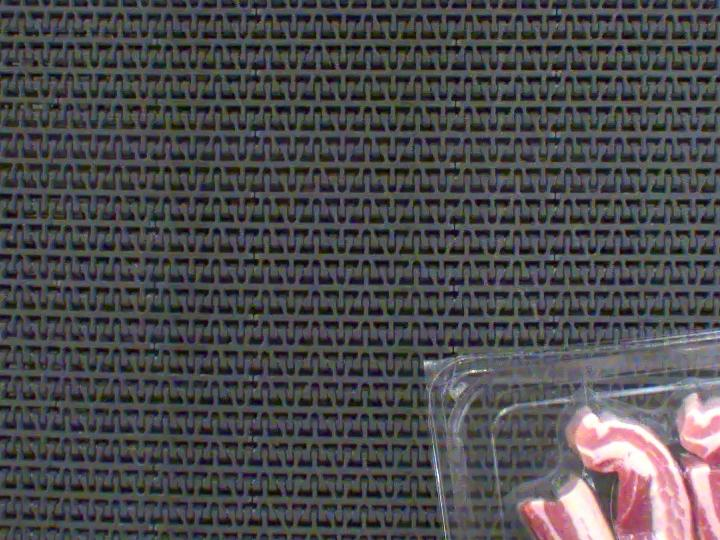unsealed: (489, 351, 720, 512)
